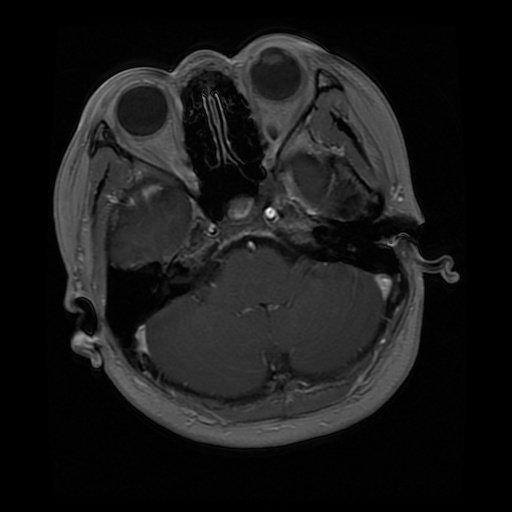pituitary: (217, 194, 274, 237)
